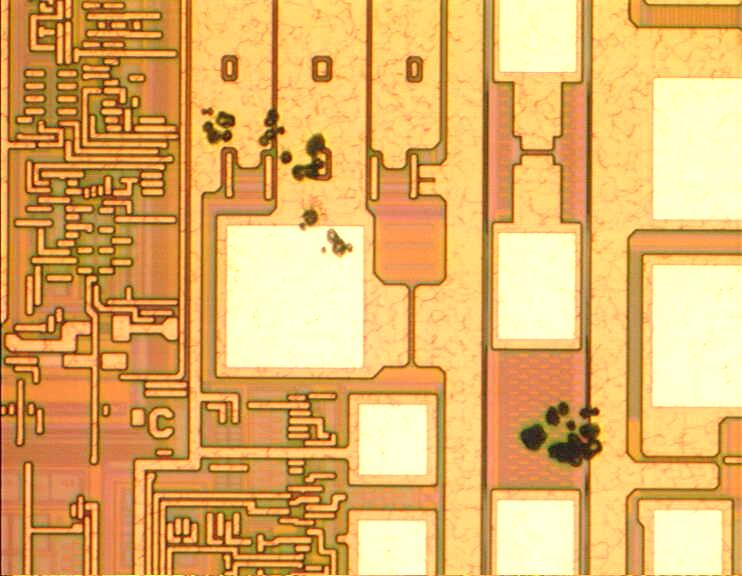PO CONTAMINATION: (190, 102, 613, 474)
